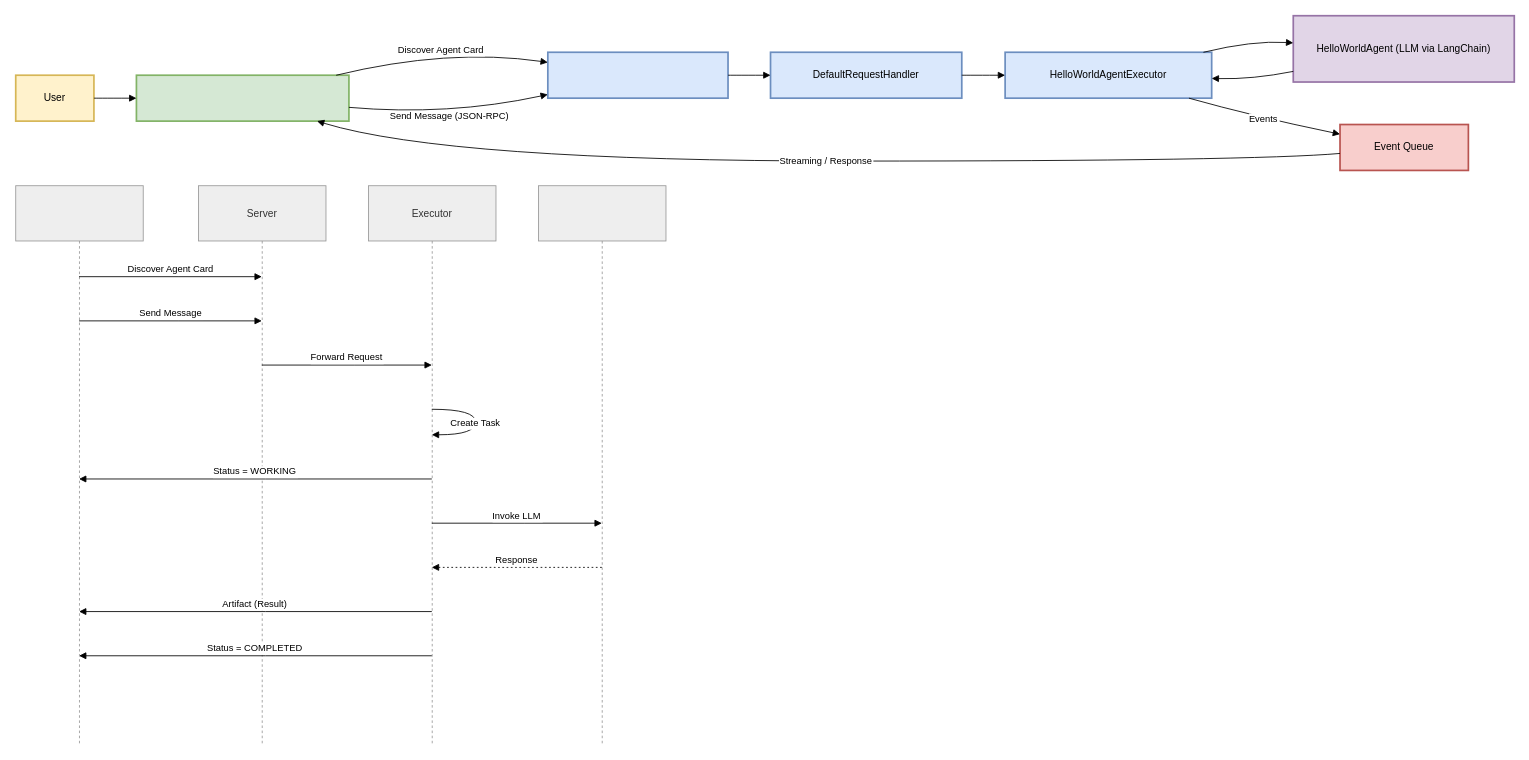
Image size: 1529x760. Some labels were removed from this diagram. The shapes that lost their labels are listed below. From the top down, each one's box as (x1, y1, x2, y2) in pixels, then its label:
(547, 51, 728, 99): A2A Server (__main__.py)
(135, 74, 349, 122): A2A Client (test_client.py)
(15, 185, 143, 745): Client
(538, 185, 666, 745): LLM Agent
